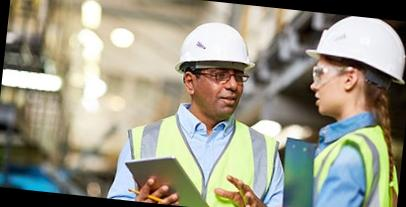helmet: (300, 10, 406, 85), (171, 17, 260, 80)
wear: (115, 110, 283, 207), (305, 121, 396, 207)
